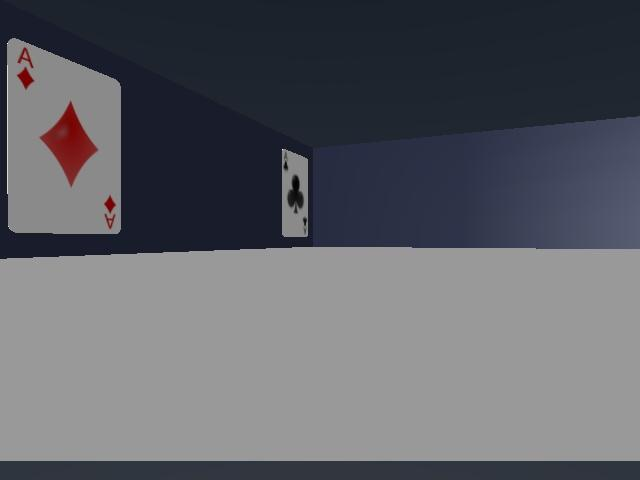club: (281, 149, 308, 236)
diamond: (7, 39, 120, 233)
